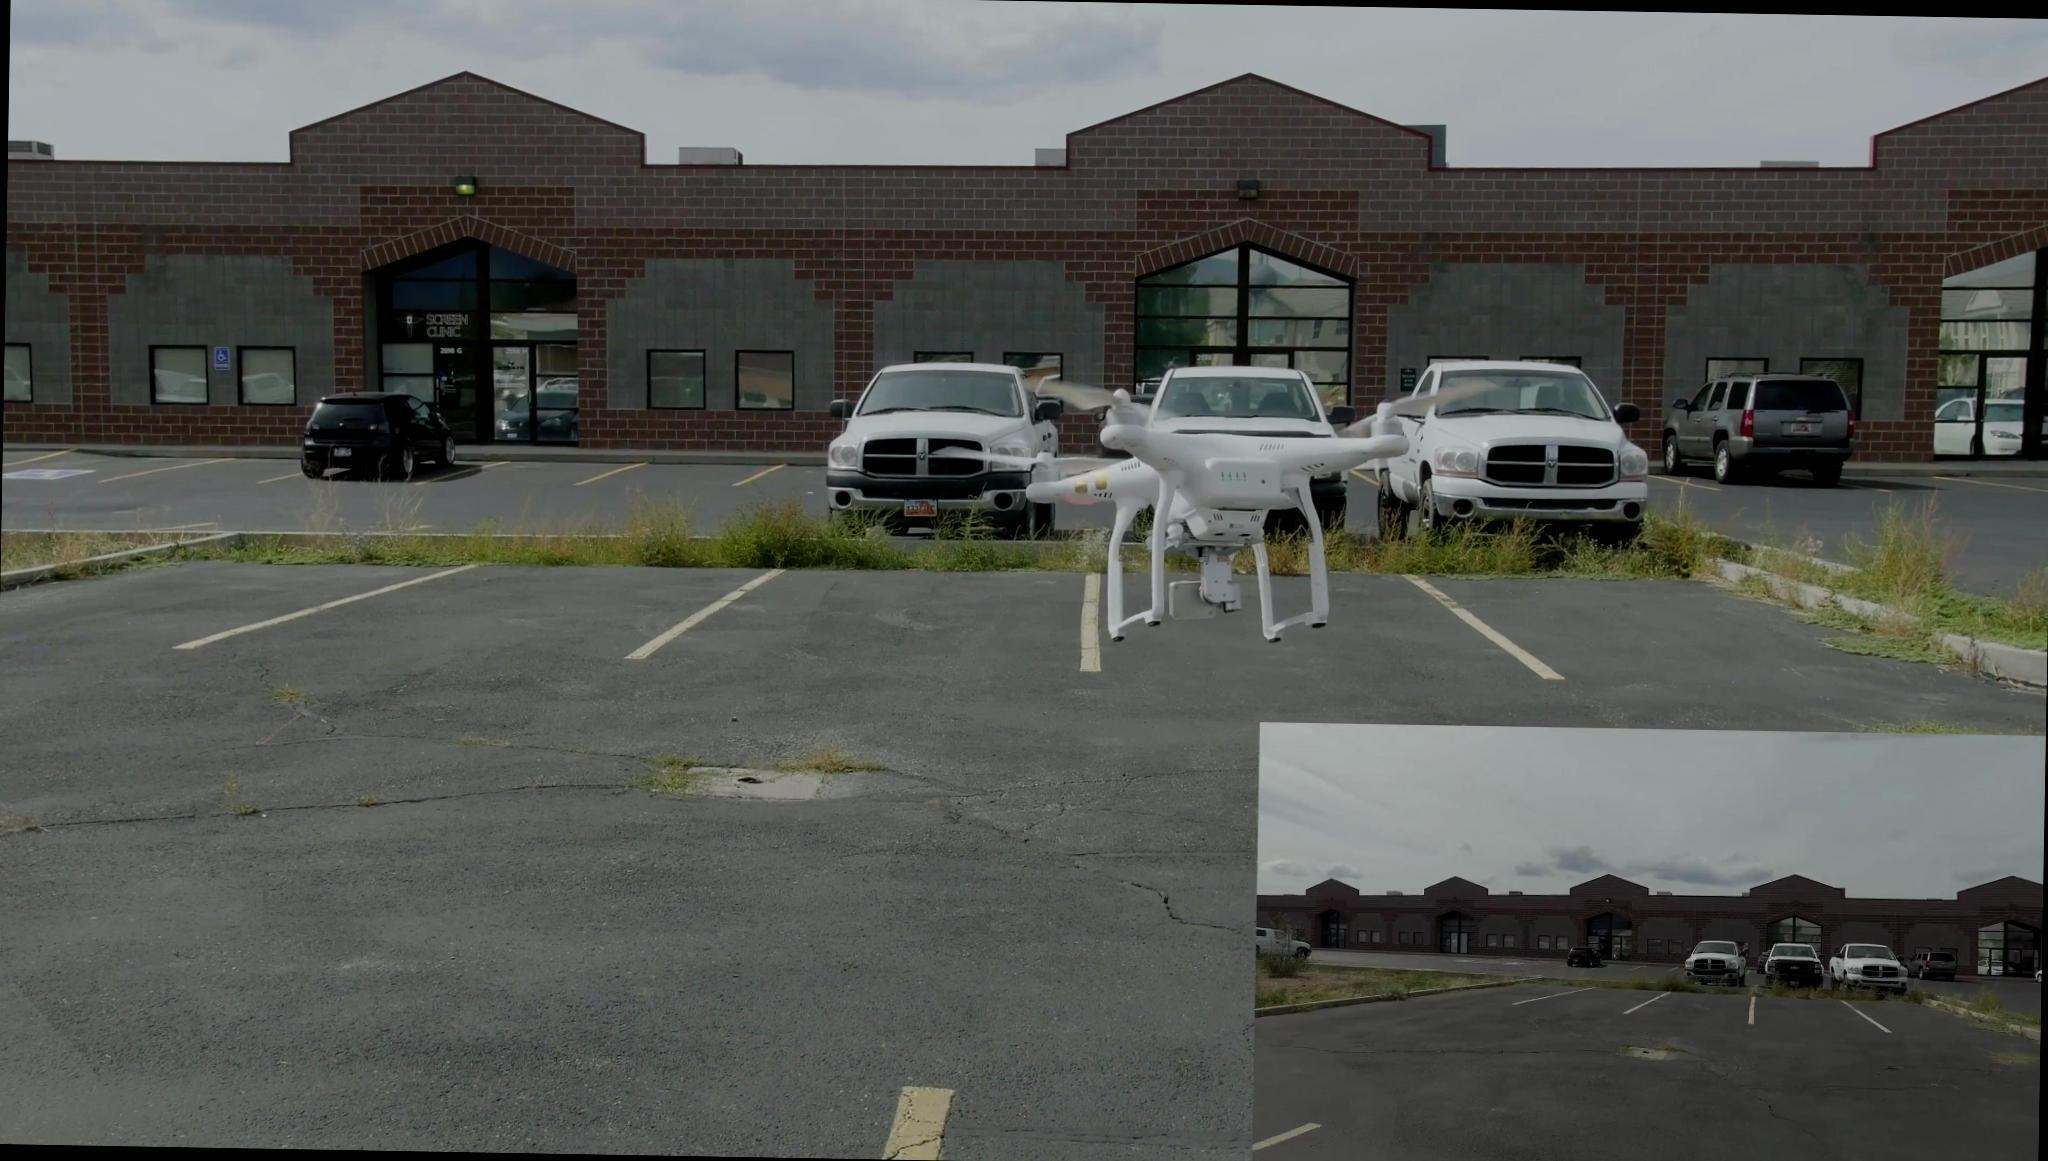drone: (945, 373, 1508, 645)
